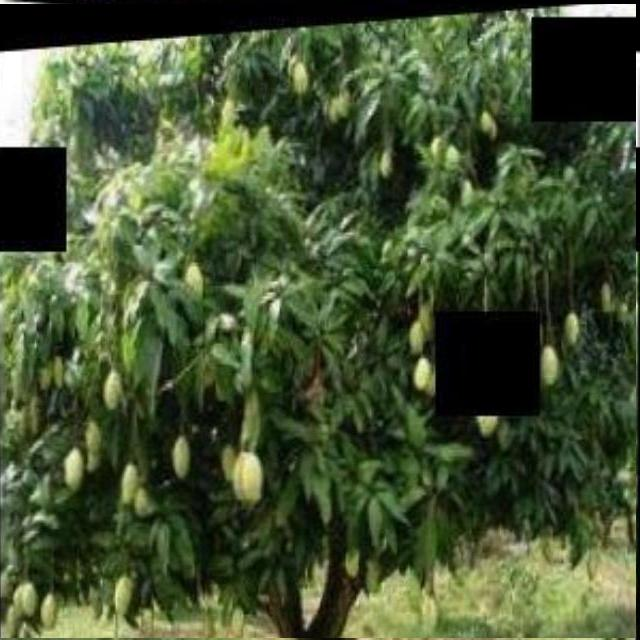tree: (0, 4, 636, 638)
